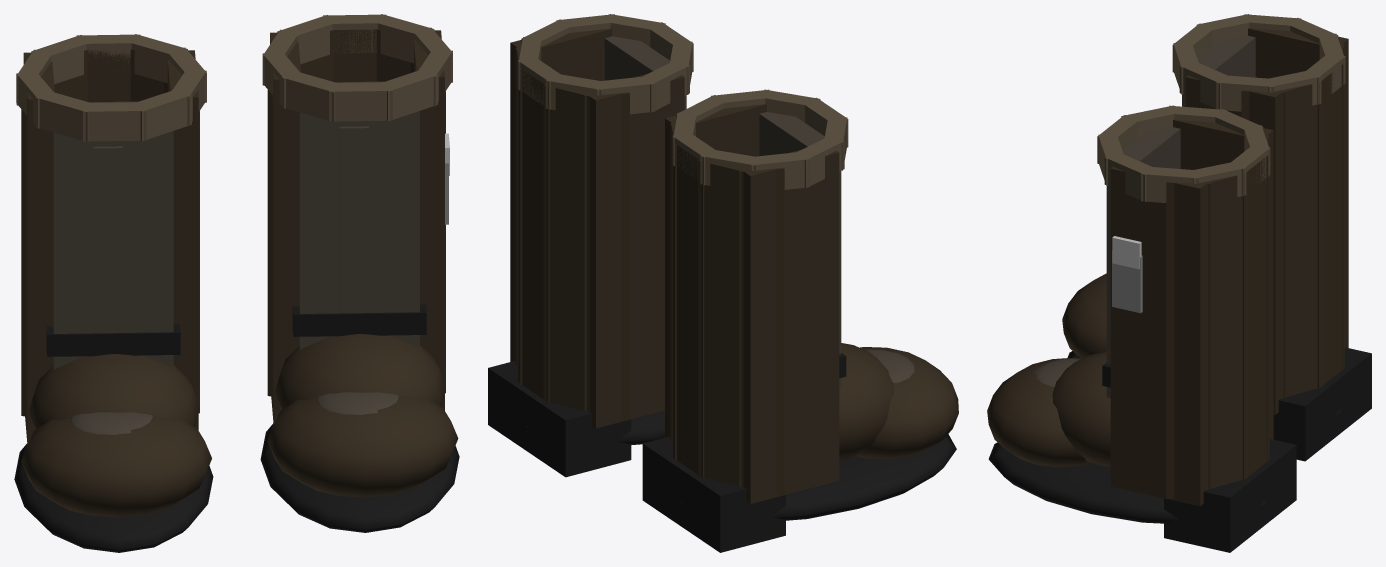
The model's file is CMU3DCMBootsBrownFilledWorldCloud.glb.
3 renders of one model, left to right at view 1: azimuth 30°, elevation 25°; view 2: azimuth 150°, elevation 25°; view 3: azimuth 270°, elevation 25°, orthographic. The views are drawn at different scales.
Parts seen in each view (by area): view 1: left front leather tongue, right front leather tongue, left rounded toe, right rounded toe, left connected vamp, right connected vamp, right left leather quarter, left left leather quarter, left right leather quarter, right right leather quarter, left shaped sole, right shaped sole (+35 smaller); view 2: left left leather quarter, right left leather quarter, right connected heel wall 3, left connected heel wall 3, right connected heel wall 2, left connected heel wall 2, left joined flat heel, right joined flat heel, left shaped sole, left rounded toe, left connected vamp, right right leather quarter (+29 smaller); view 3: right right leather quarter, right connected heel wall 1, left connected heel wall 1, right joined flat heel, right connected heel wall 2, left connected heel wall 2, right shaped sole, right rounded toe, left joined flat heel, right connected vamp, left right leather quarter, left left leather quarter (+31 smaller).
Part boxes in pixels (bbox=[...]): left front leather tongue: bbox=[53, 101, 173, 369]; right front leather tongue: bbox=[299, 81, 419, 349]; left rounded toe: bbox=[21, 415, 211, 517]; right rounded toe: bbox=[267, 395, 458, 497]; left connected vamp: bbox=[28, 354, 199, 430]; right connected vamp: bbox=[275, 334, 445, 410]; right left leather quarter: bbox=[270, 32, 300, 425]; left left leather quarter: bbox=[23, 52, 54, 445]; left right leather quarter: bbox=[167, 50, 198, 430]; right right leather quarter: bbox=[414, 30, 444, 410]; left shaped sole: bbox=[14, 443, 213, 552]; right shaped sole: bbox=[260, 423, 459, 532]; left left leather quarter: bbox=[740, 149, 839, 503]; right left leather quarter: bbox=[588, 74, 684, 428]; right connected heel wall 3: bbox=[543, 84, 590, 411]; left connected heel wall 3: bbox=[698, 160, 743, 487]; right connected heel wall 2: bbox=[518, 70, 549, 402]; left connected heel wall 2: bbox=[673, 144, 704, 477]; left joined flat heel: bbox=[642, 436, 785, 552]; right joined flat heel: bbox=[488, 361, 631, 477]; left shaped sole: bbox=[674, 434, 956, 520]; left rounded toe: bbox=[856, 347, 958, 459]; left connected vamp: bbox=[839, 343, 894, 460]; right right leather quarter: bbox=[510, 28, 612, 361]; right right leather quarter: bbox=[1110, 165, 1208, 506]; right connected heel wall 1: bbox=[1206, 172, 1248, 489]; left connected heel wall 1: bbox=[1281, 80, 1323, 398]; right joined flat heel: bbox=[1164, 439, 1296, 552]; right connected heel wall 2: bbox=[1242, 158, 1269, 479]; left connected heel wall 2: bbox=[1317, 72, 1344, 388]; right shaped sole: bbox=[988, 442, 1269, 523]; right rounded toe: bbox=[987, 357, 1090, 467]; left joined flat heel: bbox=[1273, 347, 1371, 461]; right connected vamp: bbox=[1052, 351, 1110, 466]; left right leather quarter: bbox=[1185, 73, 1282, 414]; left left leather quarter: bbox=[1248, 28, 1348, 347].
Bounding box in the file's own units: 0.5312 × 0.458 × 0.4357.
